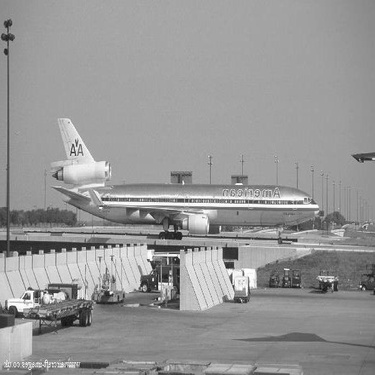airplane: (37, 113, 331, 247)
